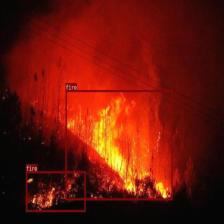fire: (66, 90, 172, 200), (26, 171, 86, 211)
